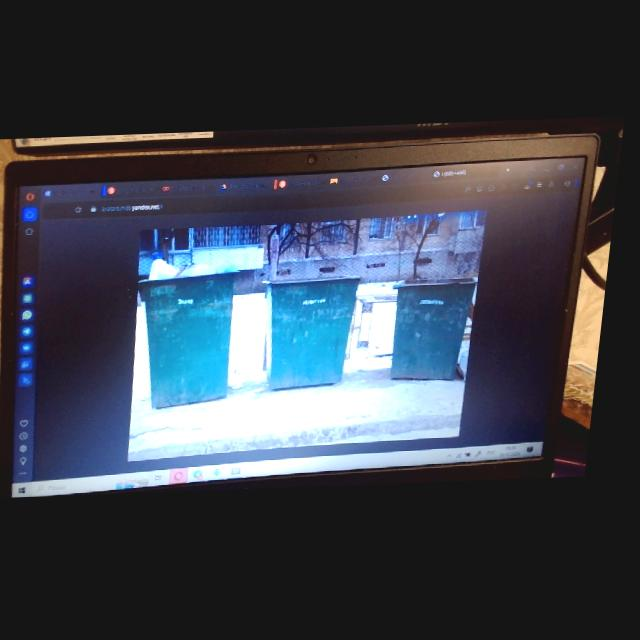Trash_Can_Empty: (259, 278, 369, 393), (392, 280, 484, 386)
Trash_Can_Full: (134, 257, 250, 411)
